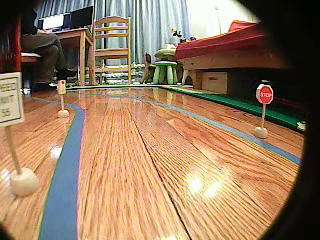Red Traffic Light: (56, 77, 68, 94)
Stop Sign: (256, 83, 274, 104)
